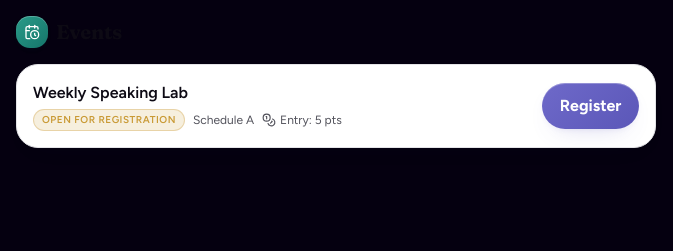
Test case: EventsPage — browse available events + register › shows a friendly error and a retry button when registration fails
Click the button with test id "events-page-register-evt_1": (591, 106) [542, 83, 639, 129]
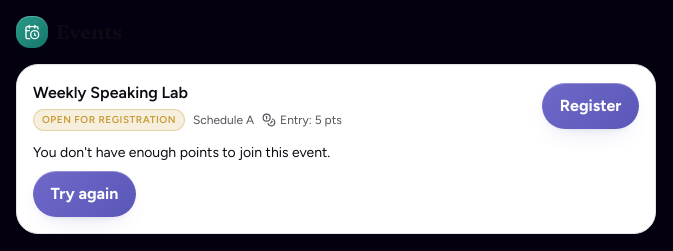
Result: the text "You don't have enough points to join this event." is shown at [33, 144, 330, 161]
Result: the button with test id "events-page-retry-evt_1" is shown at [33, 171, 136, 217]
